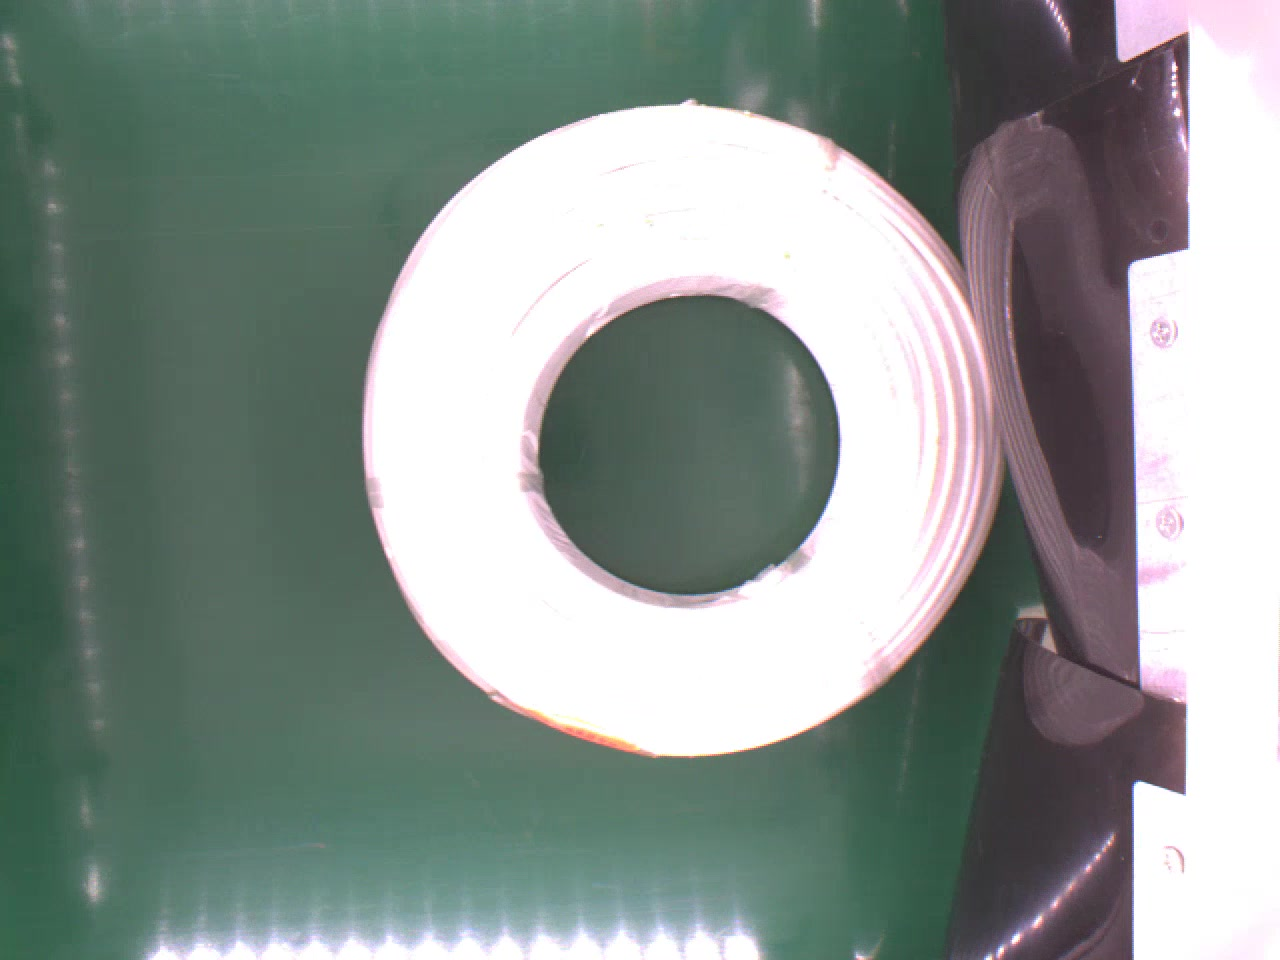white: (359, 98, 1005, 767)
